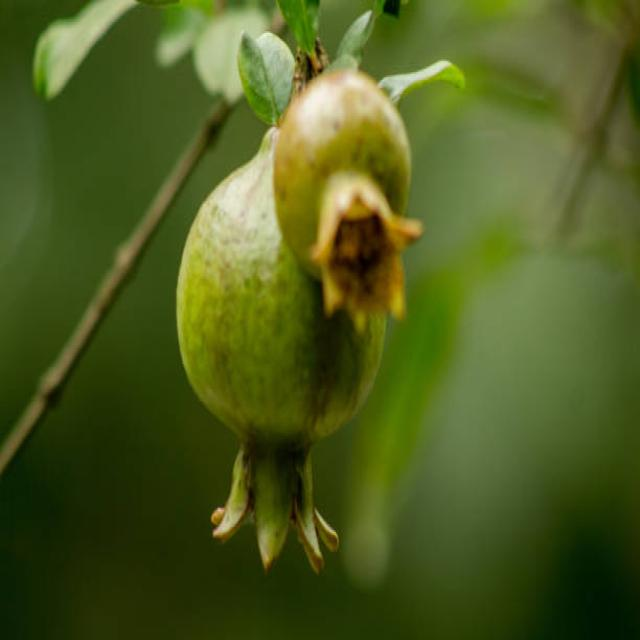Unripe: (272, 67, 419, 321)
